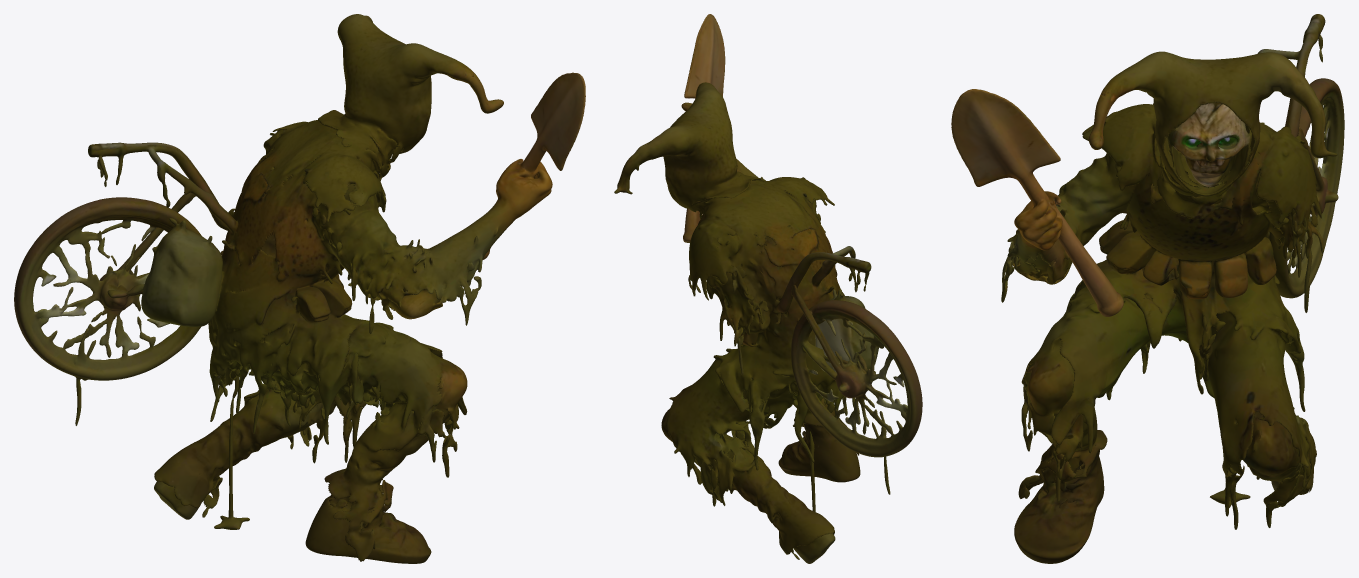
3 renders of one model, left to right at view 1: azimuth 30°, elevation 25°; view 2: azimuth 150°, elevation 25°; view 3: azimuth 270°, elevation 25°, orthographic. The views are drawn at different scales.
Visible parts, largest first — view 1: tripo_node_7133b402-5f59-4cb4-a51e-a9b62d865f4f; view 2: tripo_node_7133b402-5f59-4cb4-a51e-a9b62d865f4f; view 3: tripo_node_7133b402-5f59-4cb4-a51e-a9b62d865f4f.
Part boxes in pixels (x1,y1,x2,y2): tripo_node_7133b402-5f59-4cb4-a51e-a9b62d865f4f: (14,14,585,563); tripo_node_7133b402-5f59-4cb4-a51e-a9b62d865f4f: (614,14,922,563); tripo_node_7133b402-5f59-4cb4-a51e-a9b62d865f4f: (951,14,1344,563).
Size of the model in its own units: 0.8842 by 1 by 0.6449.
Materials: 1 (1 with a texture image).
